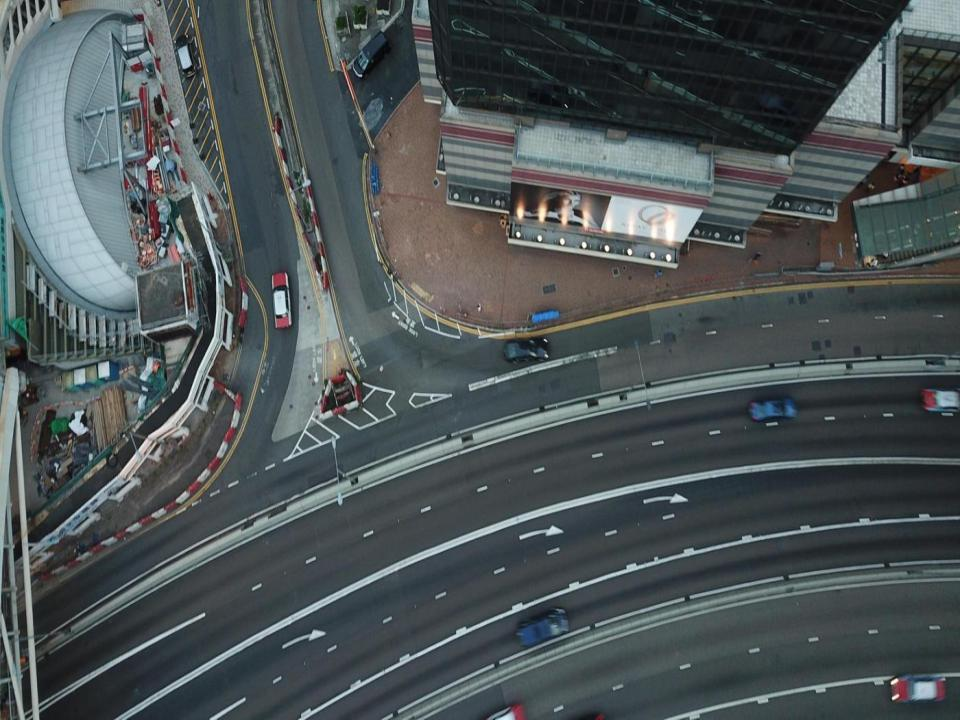car: (887, 672, 948, 699), (500, 338, 553, 364), (270, 270, 294, 327), (748, 395, 796, 421), (922, 384, 960, 412), (172, 36, 196, 76), (481, 705, 529, 719)
van: (516, 606, 569, 646), (352, 30, 387, 80)
